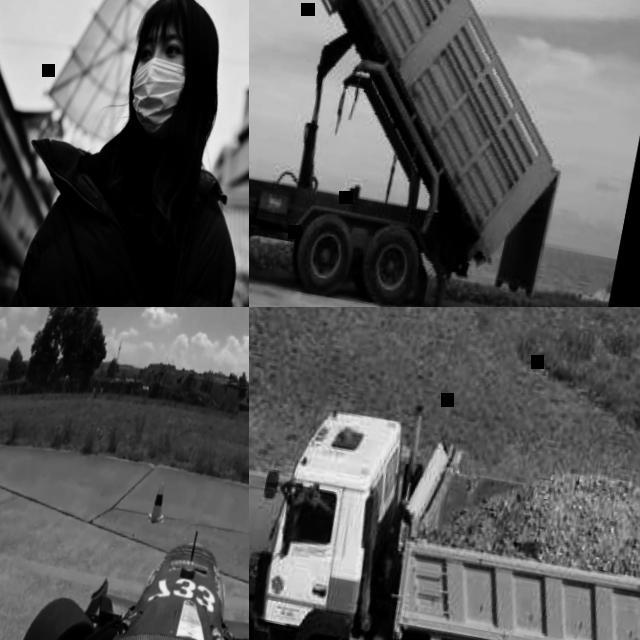machinery: (249, 0, 623, 307), (249, 388, 640, 640)
mask: (120, 56, 190, 141)
no_helmet: (140, 0, 235, 51)
no_vest: (12, 159, 249, 307)
person: (0, 0, 249, 307)
safety_cone: (144, 484, 171, 530)
vehicle: (0, 494, 249, 640)
